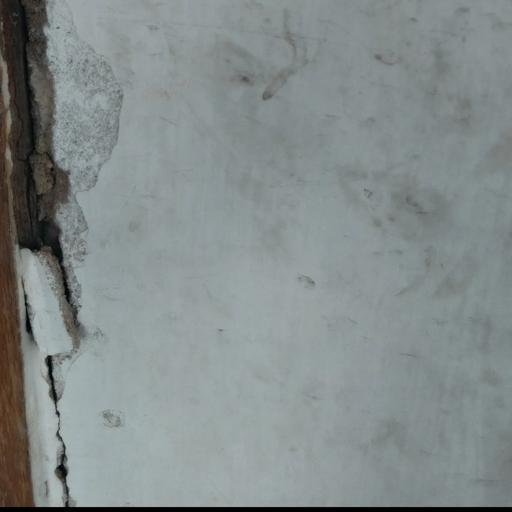spalling: (0, 0, 120, 499)
